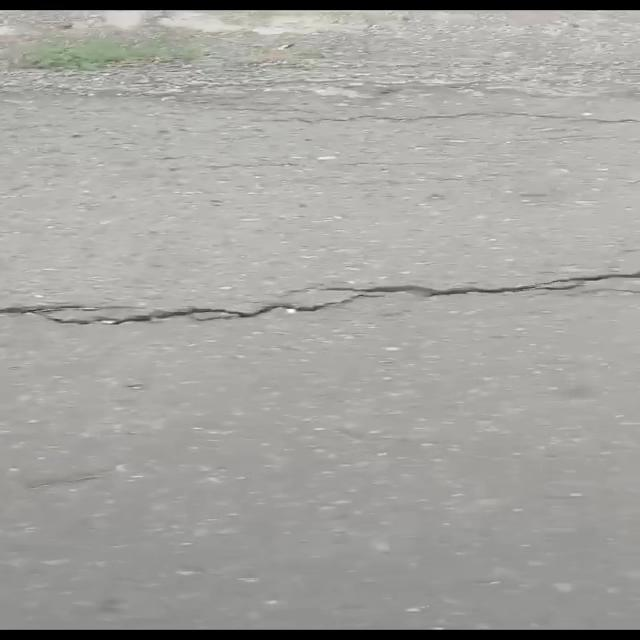Melintang: (0, 262, 640, 344)
